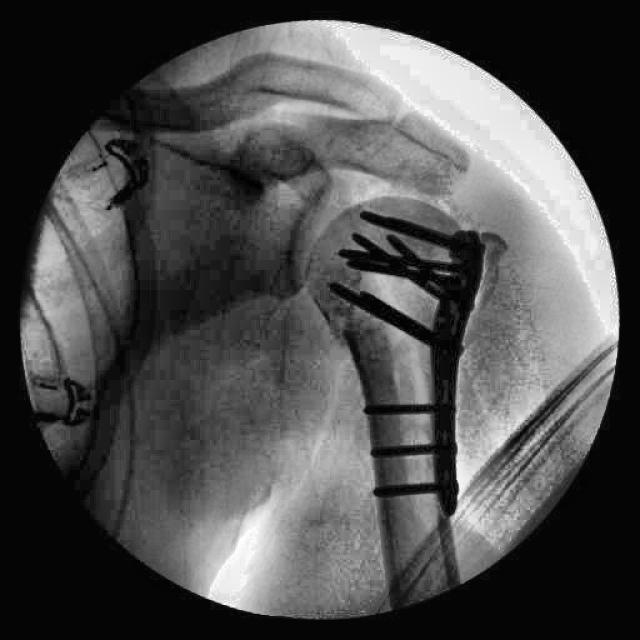shoulder fracture: (337, 77, 452, 173), (298, 298, 385, 381)
